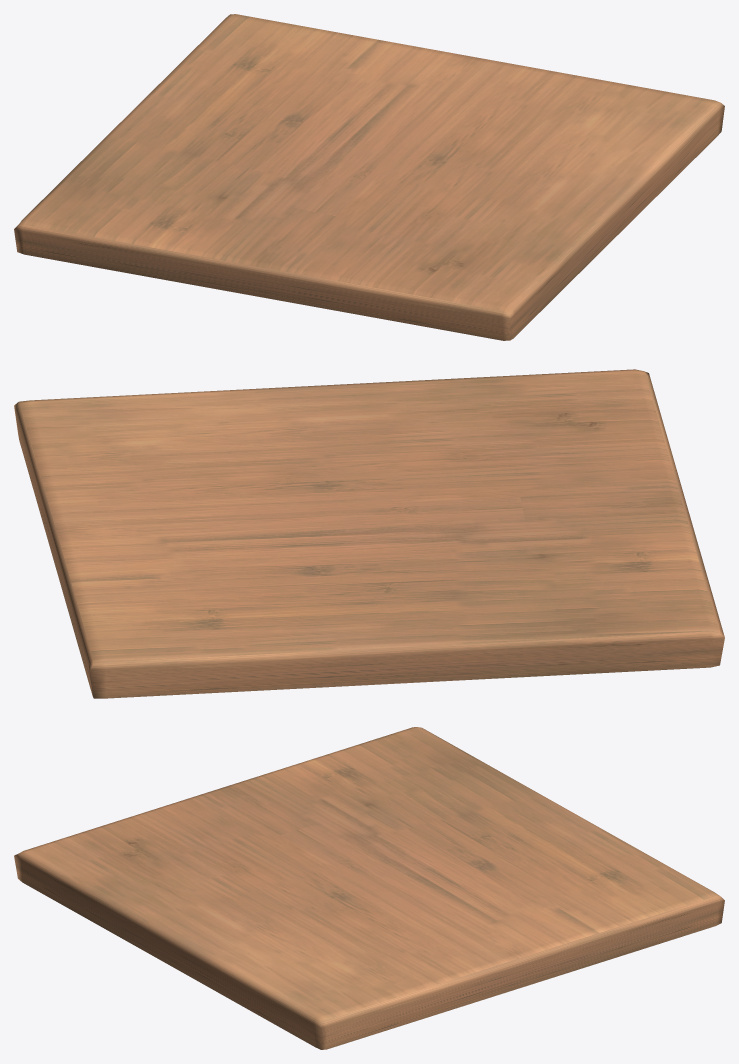
Rendered from WoodBoard.fbx.
3 renders of one model, top to bottom at view 1: azimuth 30°, elevation 25°; view 2: azimuth 150°, elevation 25°; view 3: azimuth 270°, elevation 25°, orthographic. The views are drawn at different scales.
Parts seen in each view (by area): view 1: polySurface179; view 2: polySurface179; view 3: polySurface179.
Boxes of the visible parts, left/top/right/bottom form: polySurface179: left=14, top=14, right=724, bottom=340; polySurface179: left=14, top=369, right=724, bottom=698; polySurface179: left=14, top=727, right=724, bottom=1049.
Size of the model in its own units: 155 by 7.4 by 155.
